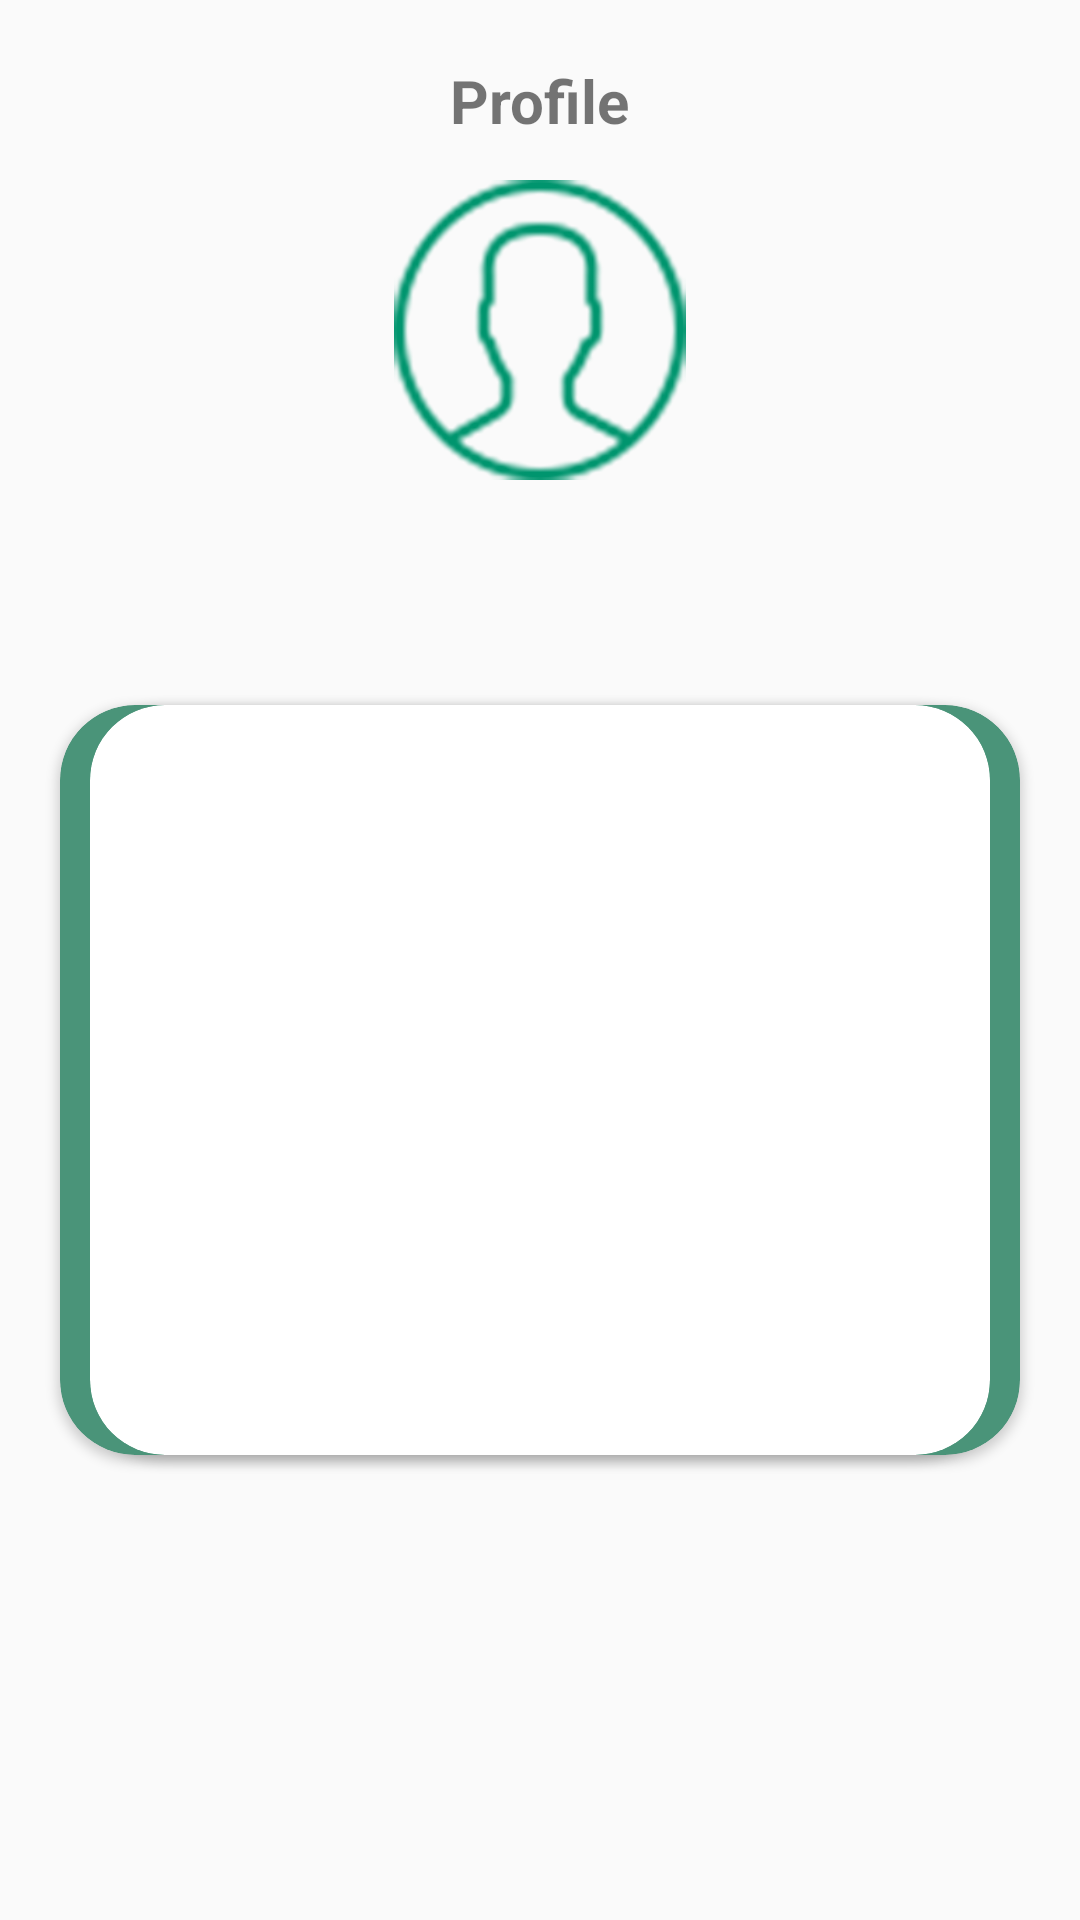

Locate icon controls on the screen. Image size 1080w x 1920h, boxes as rect(x1, y1, x2, y2).
user: rect(394, 180, 686, 480)
